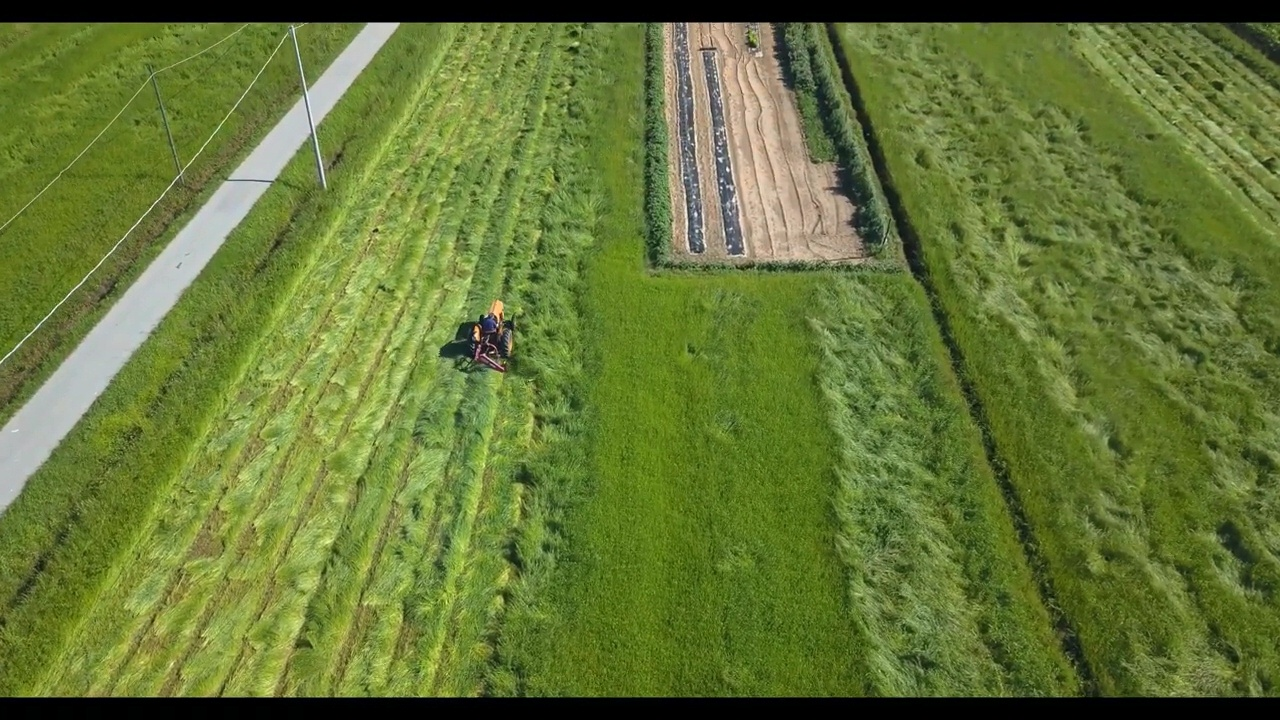insan: (483, 313, 497, 333)
traktor: (466, 299, 517, 356)
